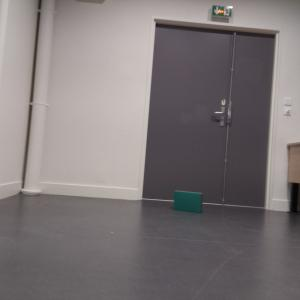small: (172, 188, 203, 217)
